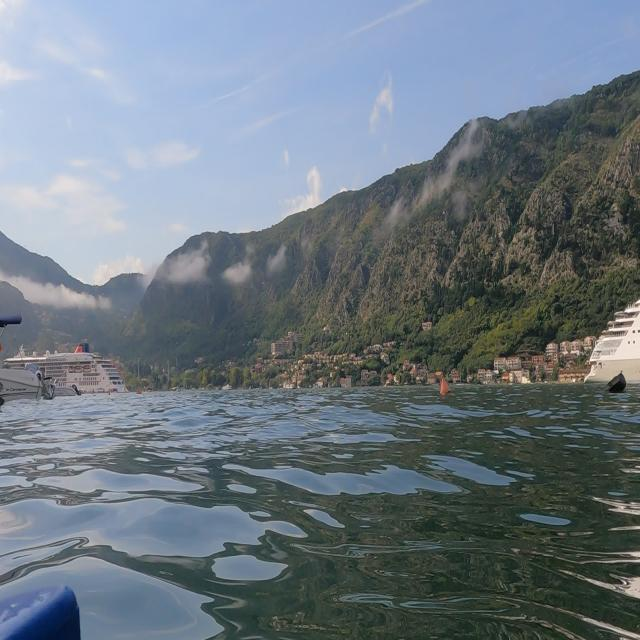boat: (0, 334, 142, 424)
buoy: (605, 370, 632, 403), (438, 373, 456, 402)
